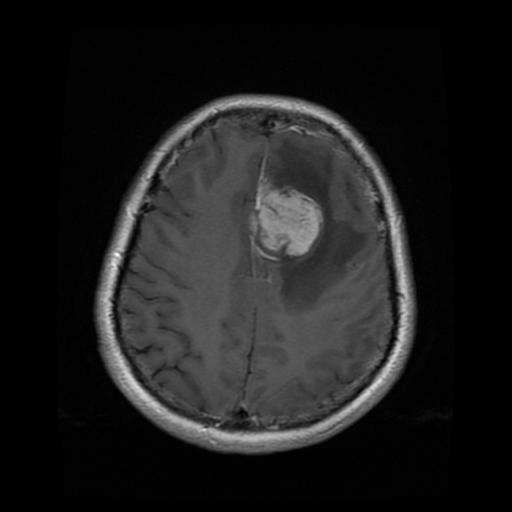Tumour-Meningioma: (223, 157, 349, 273)
